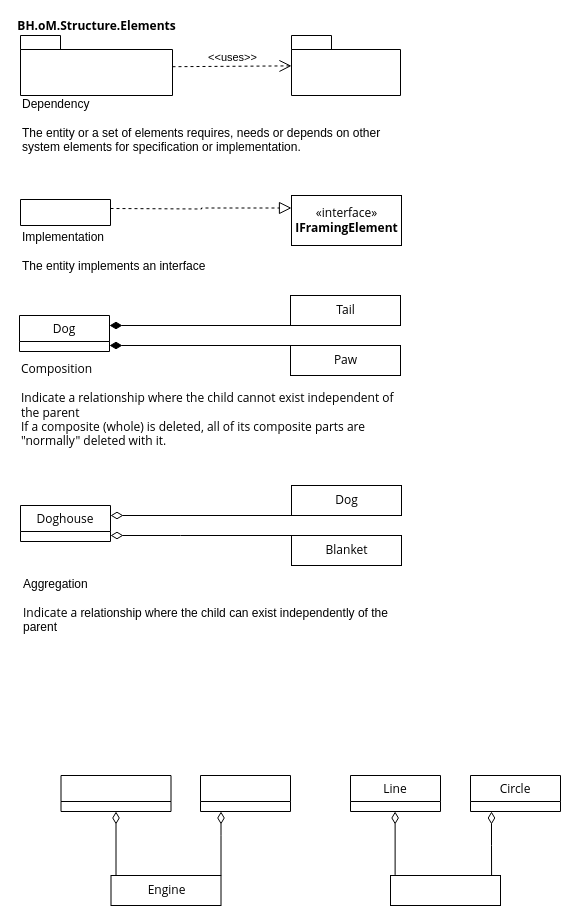
Some shapes in this 578 by 923 pixel diagram are drawn without their labels. Each missing label, with the box of its shape:
Beam: (20, 198, 110, 226)
BH.oM.Geometry: (290, 34, 400, 96)
Car: (200, 774, 290, 812)
EngineInspection: (60, 774, 171, 812)
Point: (390, 874, 500, 906)
